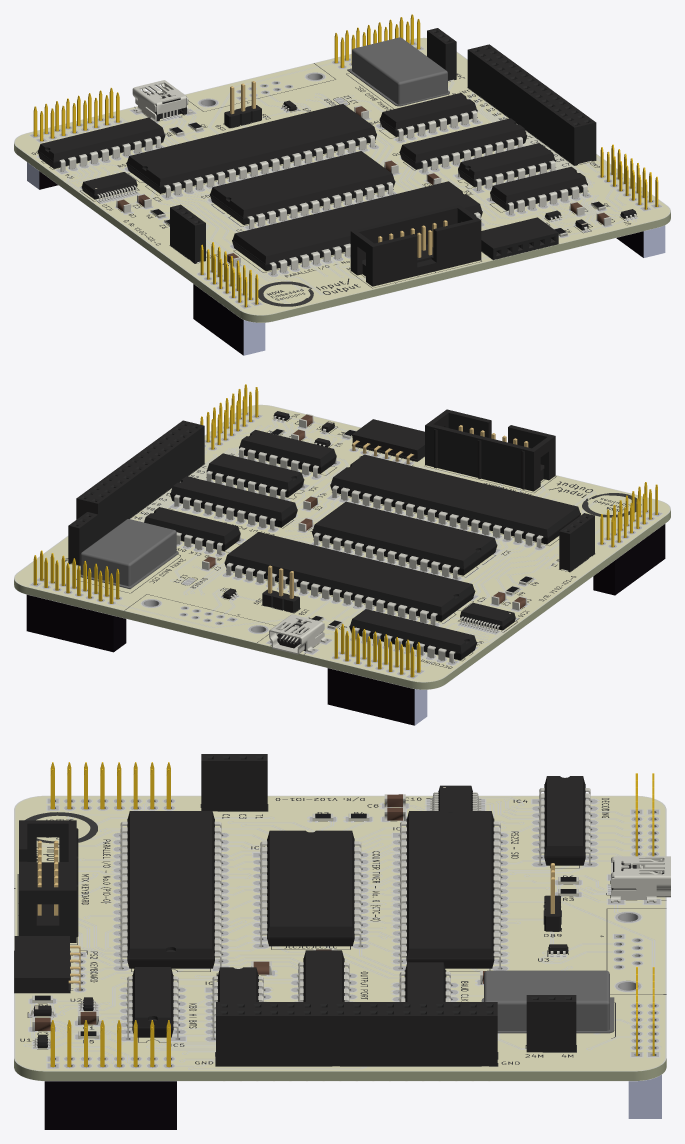
3 renders of one model, top to bottom at view 1: azimuth 30°, elevation 25°; view 2: azimuth 150°, elevation 25°; view 3: azimuth 270°, elevation 25°, orthographic. The views are drawn at different scales.
Visible parts, largest first — view 1: IC10, =>[0:1:1:26], =>[0:1:1:21], J11, J6, =>[0:1:1:28], XT1, =>[0:1:1:22], =>[0:1:1:24], C6; view 2: IC10, =>[0:1:1:26], =>[0:1:1:21], J11, J6, =>[0:1:1:28], XT1, =>[0:1:1:22], =>[0:1:1:24], J8, C6; view 3: IC10, =>[0:1:1:26], =>[0:1:1:21], J11, =>[0:1:1:22], =>[0:1:1:28], J6, XT1, =>[0:1:1:24], C6, R1, J8.
Boxes of the visible parts, x1,y1,x2,y2 form: IC10: (37, 28, 636, 275); =>[0:1:1:26]: (14, 37, 670, 322); =>[0:1:1:21]: (15, 39, 669, 314); J11: (27, 14, 665, 355); J6: (350, 204, 481, 286); =>[0:1:1:28]: (14, 42, 670, 322); XT1: (347, 37, 449, 106); =>[0:1:1:22]: (30, 42, 661, 308); =>[0:1:1:24]: (31, 63, 637, 306); C6: (117, 106, 609, 262); IC10: (68, 411, 594, 663); =>[0:1:1:26]: (14, 404, 670, 689); =>[0:1:1:21]: (15, 406, 669, 681); J11: (26, 384, 665, 725); J6: (425, 409, 555, 491); =>[0:1:1:28]: (14, 418, 670, 689); XT1: (80, 519, 178, 588); =>[0:1:1:22]: (30, 412, 661, 678); =>[0:1:1:24]: (65, 414, 641, 668); J8: (268, 440, 414, 598); C6: (203, 414, 525, 608); IC10: (14, 754, 670, 1066); =>[0:1:1:26]: (14, 795, 666, 1081); =>[0:1:1:21]: (16, 797, 664, 1070); J11: (44, 762, 661, 1129); =>[0:1:1:22]: (29, 798, 660, 1068); =>[0:1:1:28]: (14, 799, 666, 1080); J6: (19, 820, 78, 942); XT1: (481, 970, 614, 1033); =>[0:1:1:24]: (14, 797, 666, 1066); C6: (35, 794, 485, 1030); R1: (32, 813, 578, 1038); J8: (68, 863, 554, 990).
Bounding box in the file's own units: 0.1 × 0.0194 × 0.1007.
